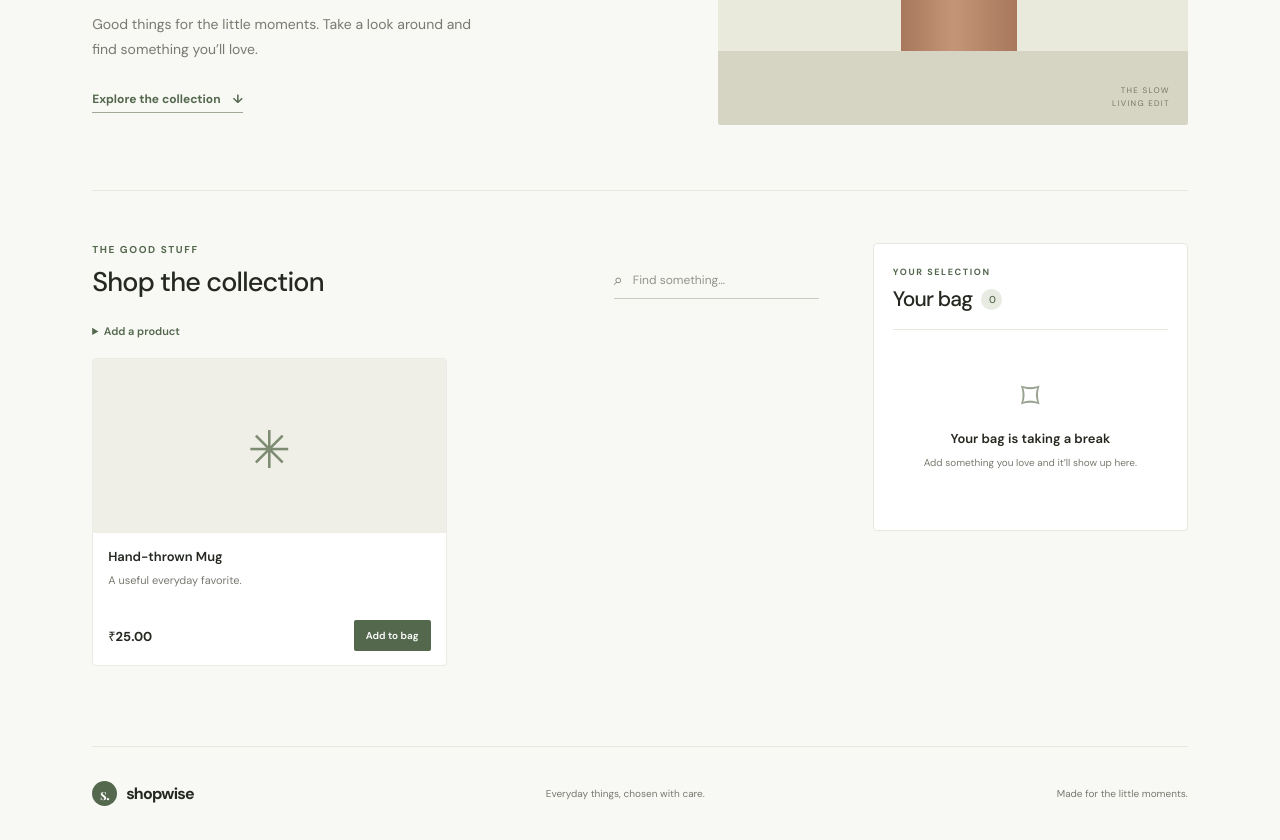
Test case: shopping experience › loads products, adds and changes quantities, then removes the cart item
(page scrolled)
Check: the number of headings "Hand-thrown Mug" is 1, box [108,548,223,565]
Click the button "Add to bag" at (392, 636), box [354,620,430,651]
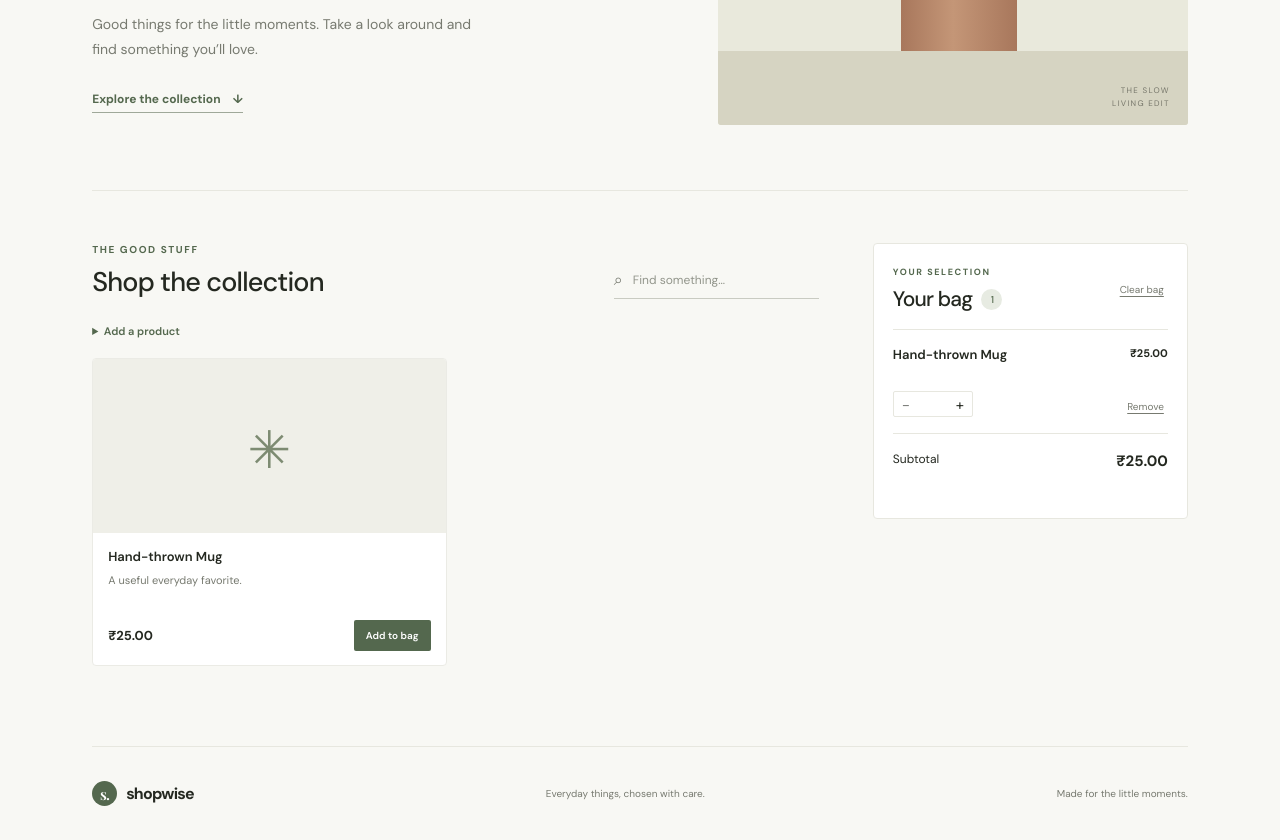
Check: the text named "Cart subtotal" shows "25.00", box [1116,451,1168,471]
Click the button named "Increase Hand-thrown Mug quantity" at (960, 404), box [950,394,970,414]
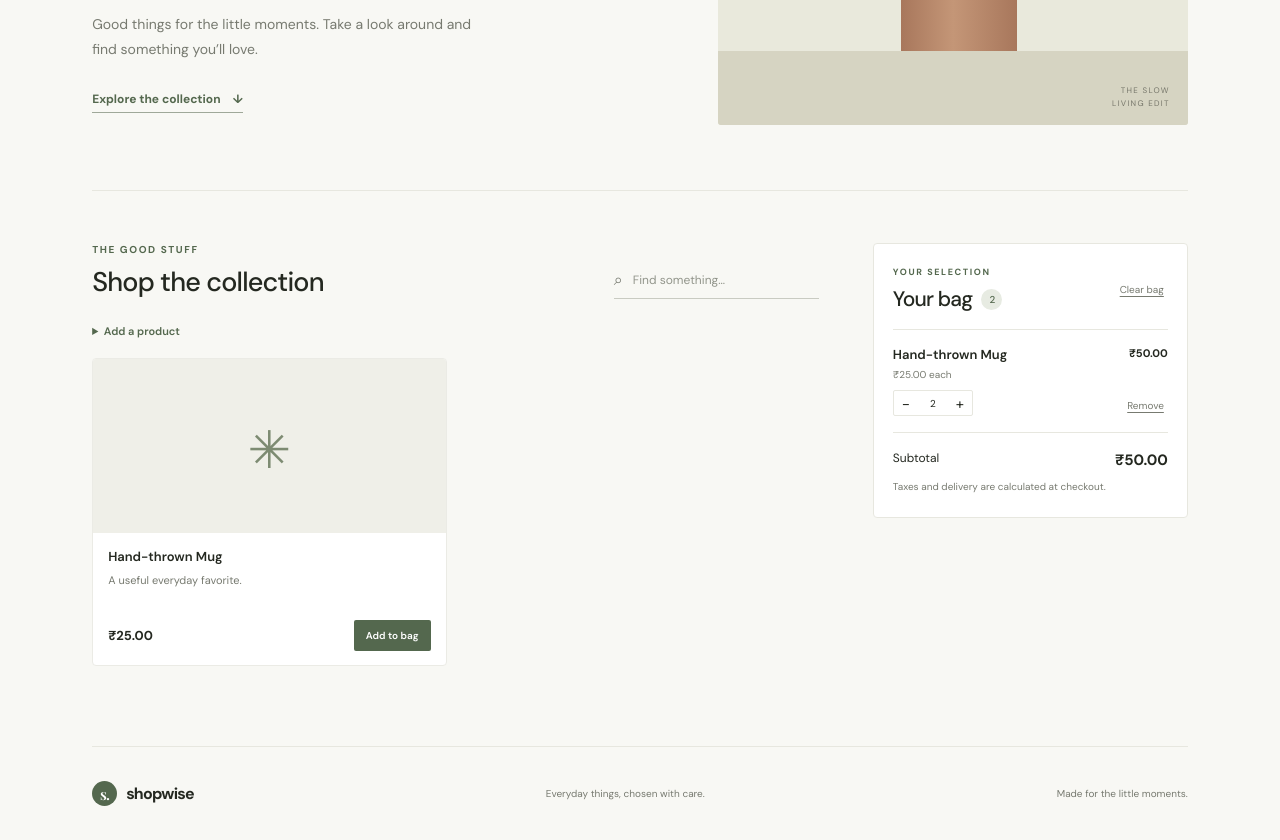
Check: the text named "Cart subtotal" shows "50.00", box [1115,450,1168,470]
Click the button "Remove" at (1146, 406), box [1123,395,1168,416]
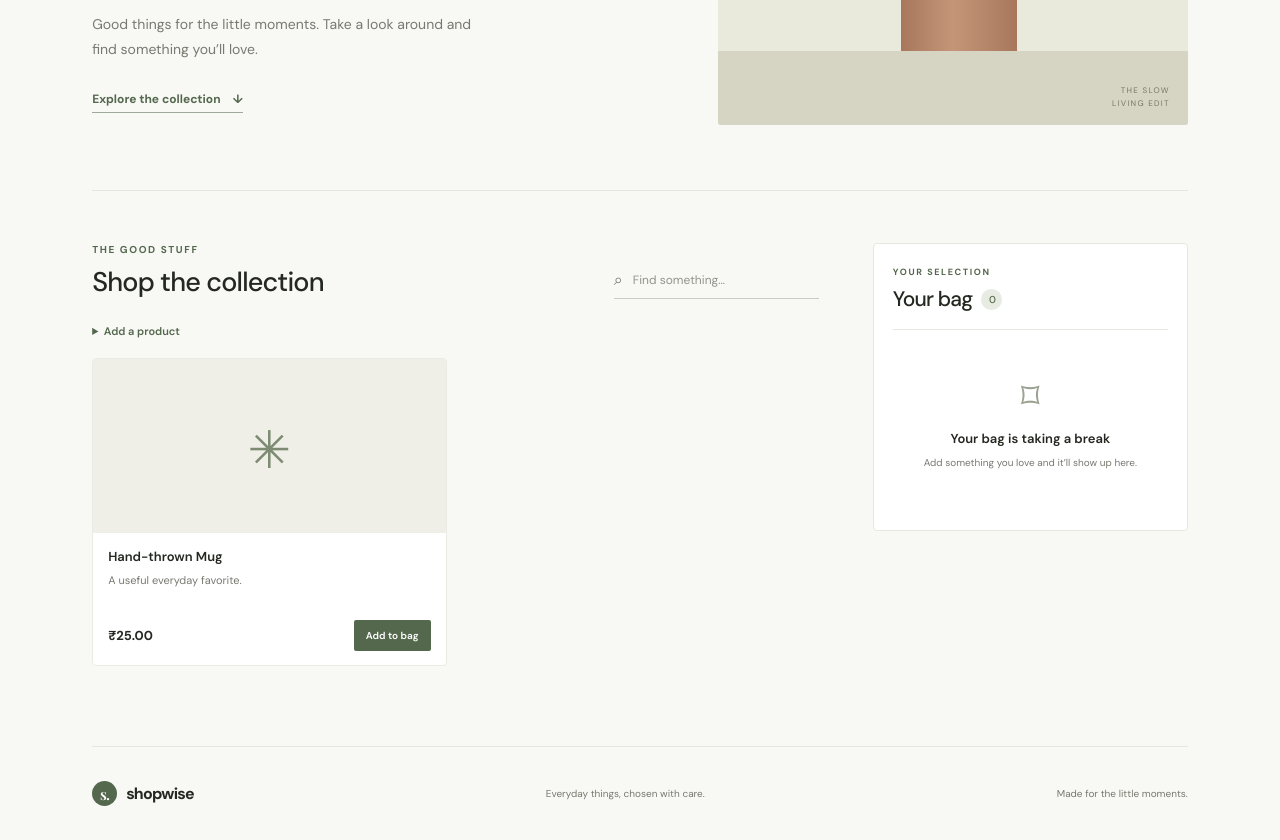
Check: the heading "Your bag is taking a break" is shown, box [950,430,1110,447]
